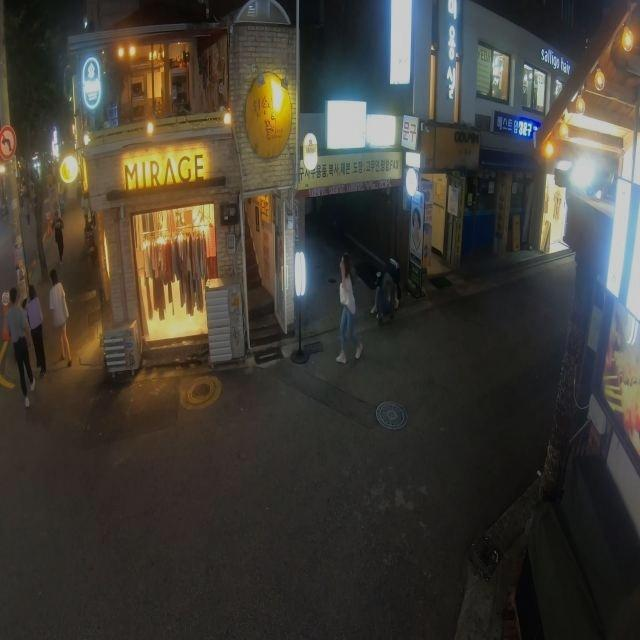non-fight: (1, 287, 37, 407), (334, 254, 362, 362), (48, 268, 71, 369)
